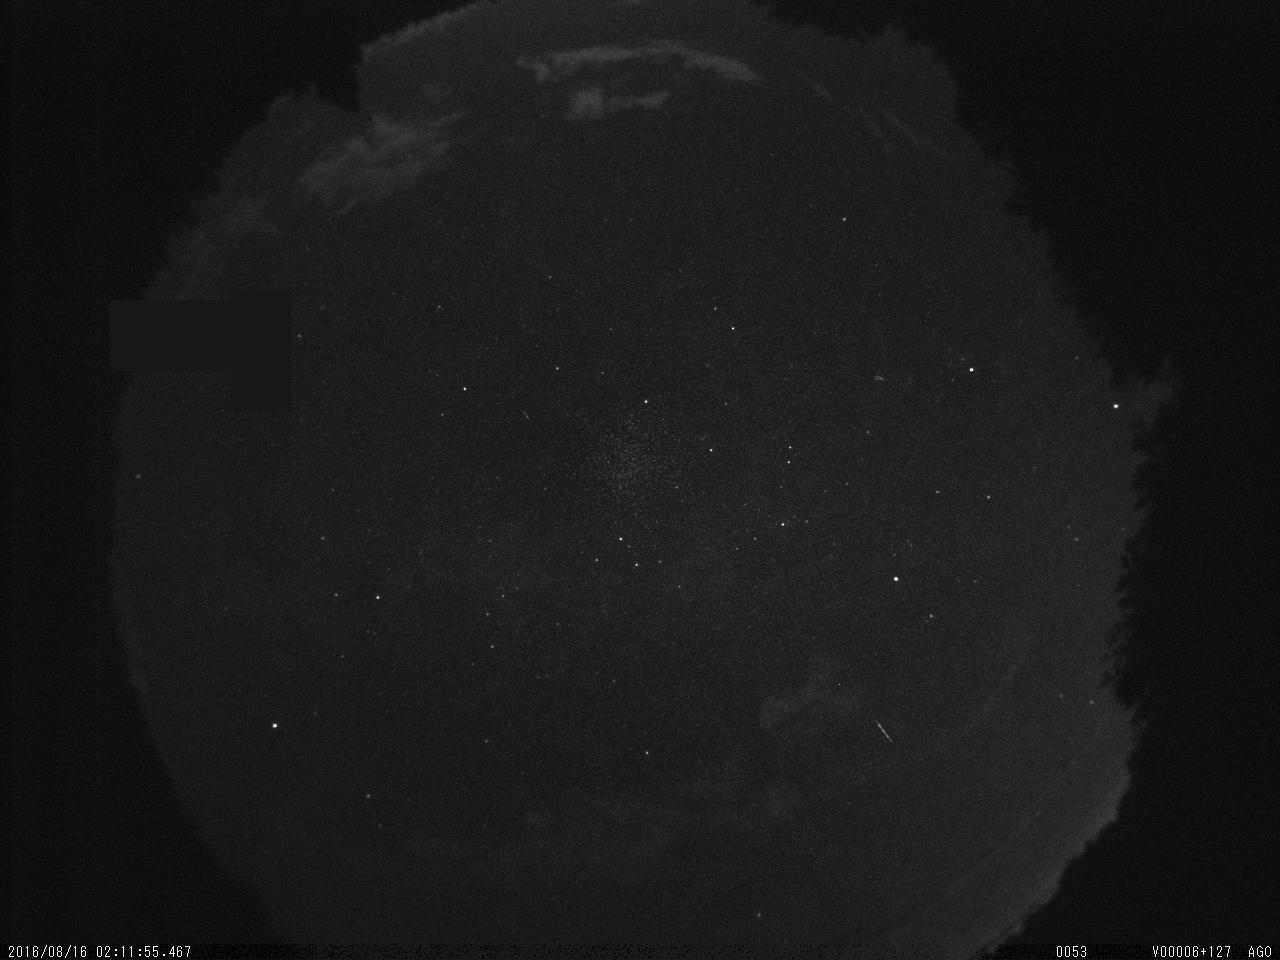meteor: (857, 707, 904, 761)
